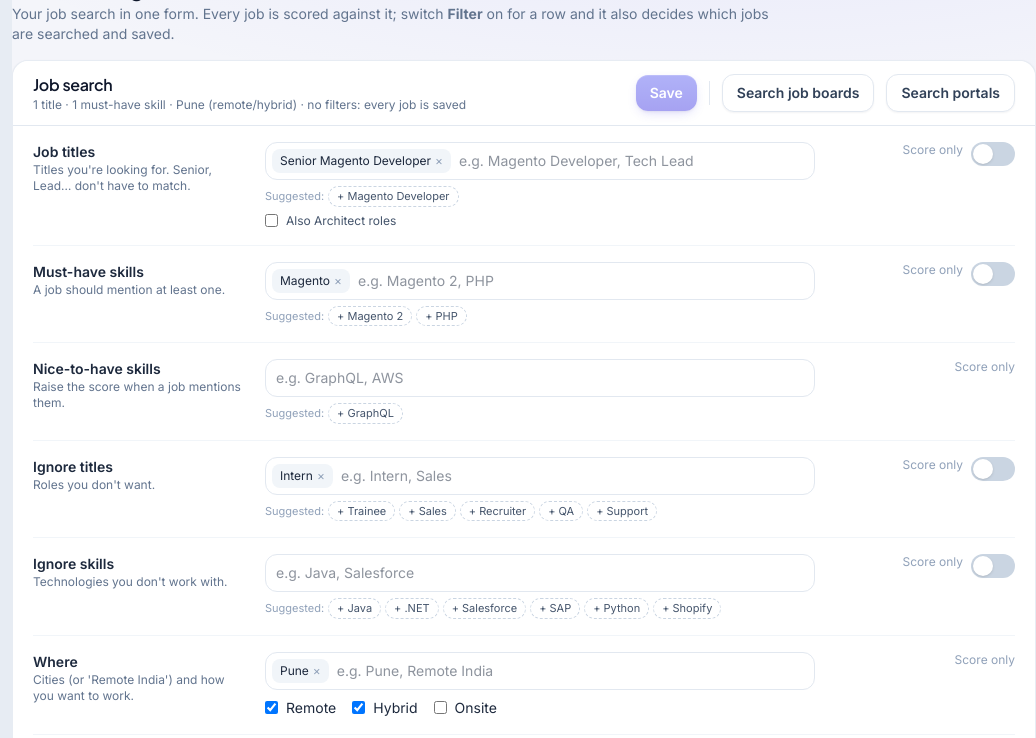
Test: Skills & targets: one job search form › previews what the filters would block, using the lists as edited
Type "Java" into the field named "Ignore skills" at (540, 573), box [272,561,808,585]
Then press Enter
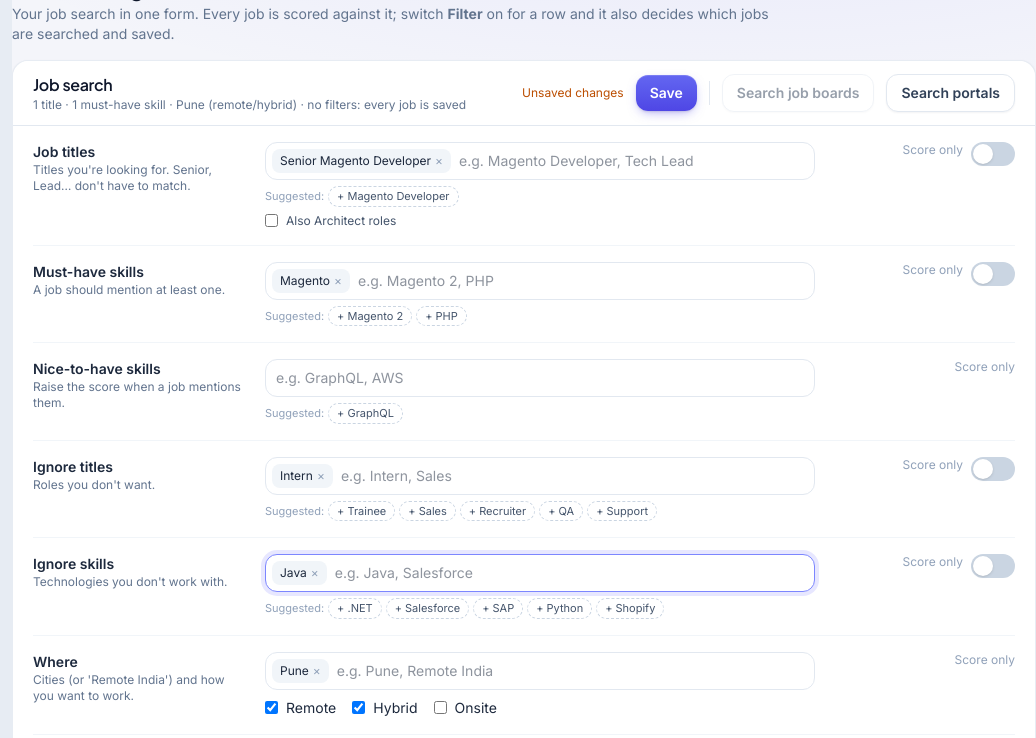
Click the switch named "Filter by Ignore skills" at (993, 566), box [971,554,1015,578]
(page scrolled)
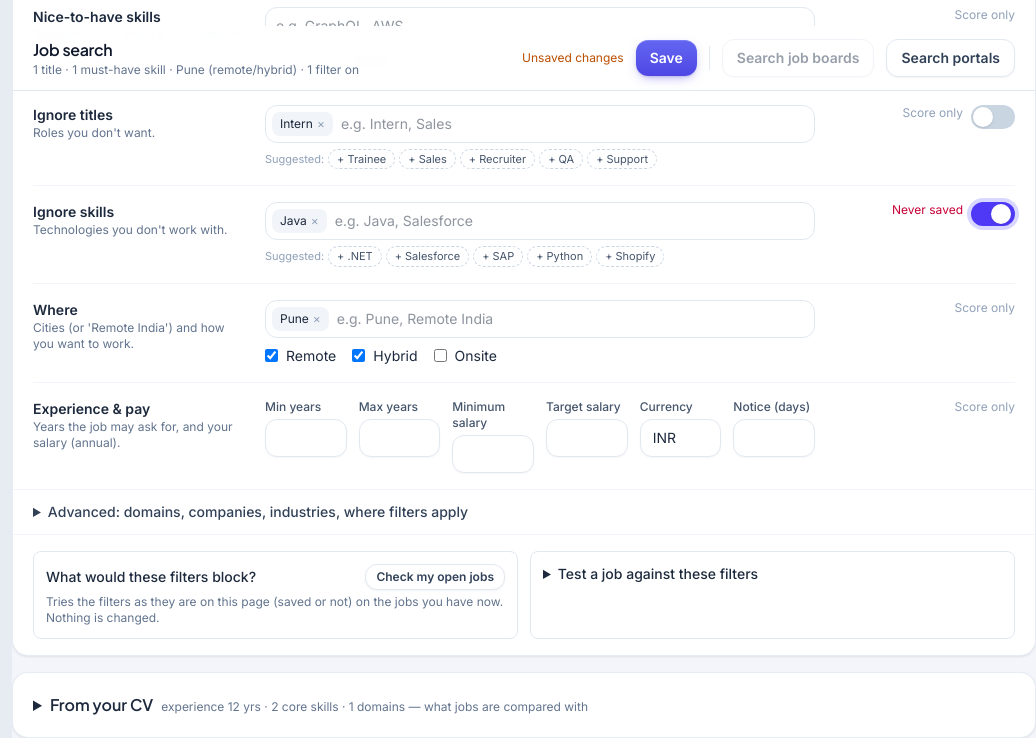
Click the button "Check my open jobs" at (435, 576), box [365,564,505,590]
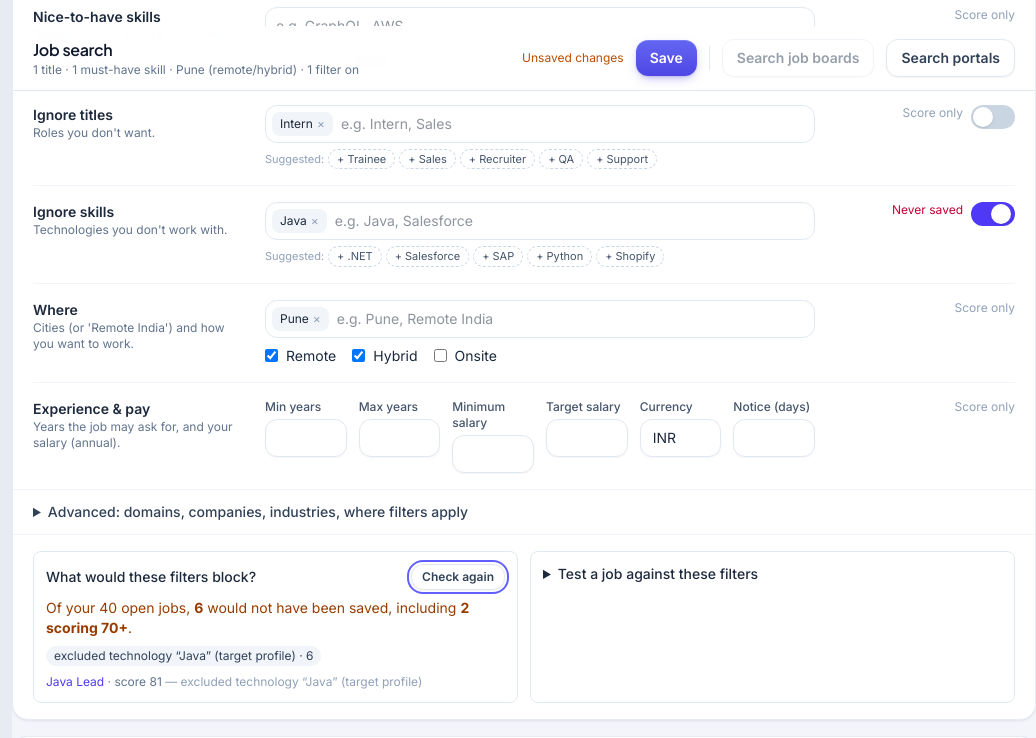
Result: the text "would not have been saved" reads "Of your 40 open jobs, 6 would not have been saved, including 2 scoring 70+." at [46,598,505,638]
